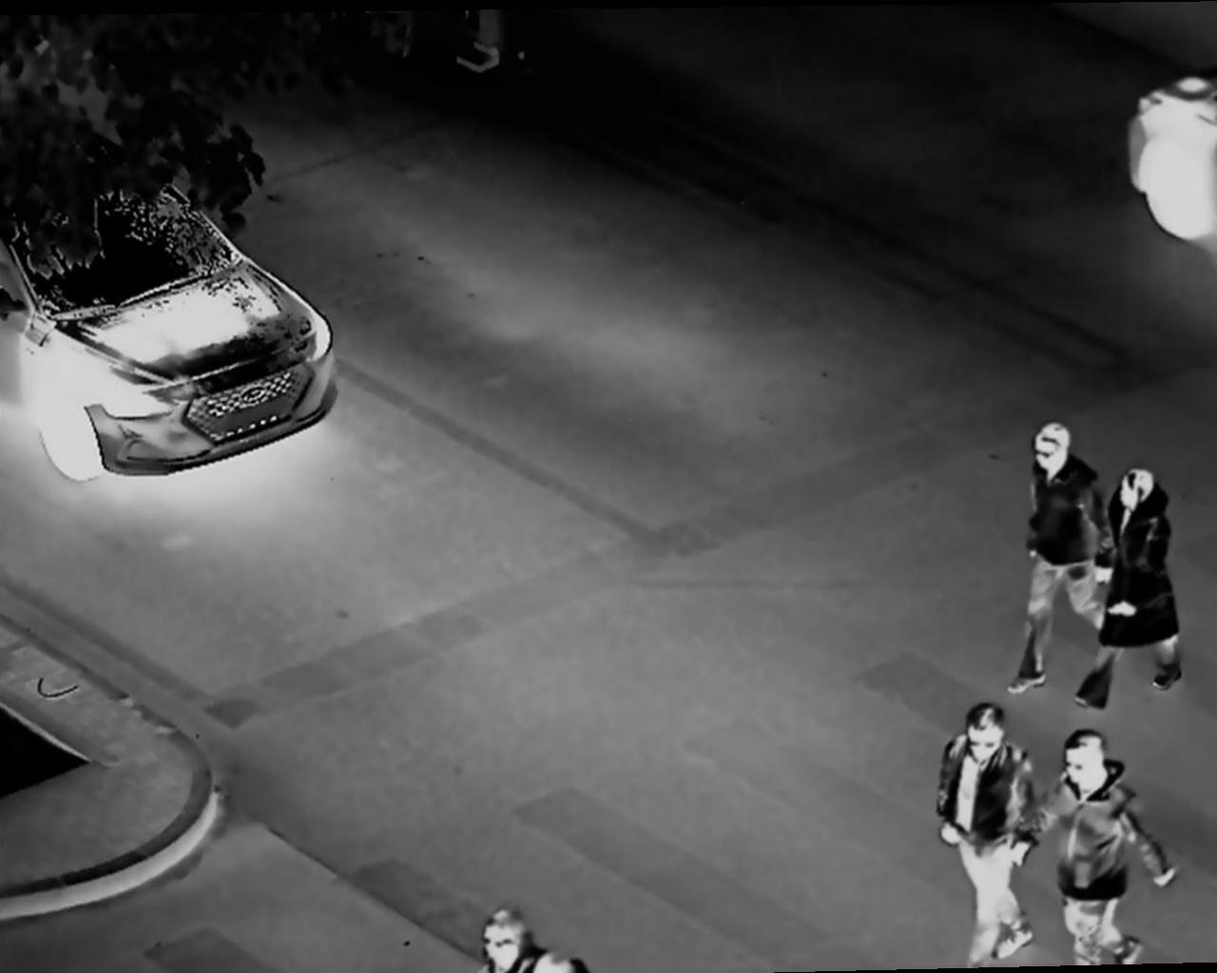person: (1038, 730, 1170, 973), (1096, 463, 1211, 716), (1009, 422, 1105, 724), (936, 695, 1037, 967), (472, 899, 549, 973)
